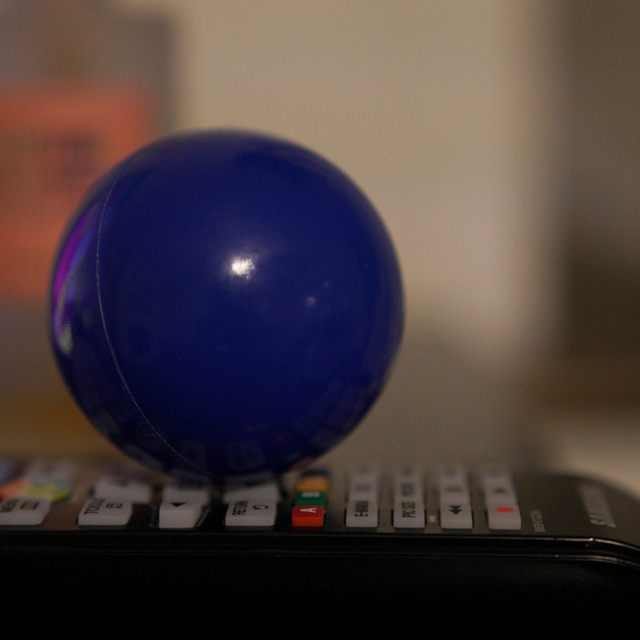Ball: (47, 129, 399, 484)
